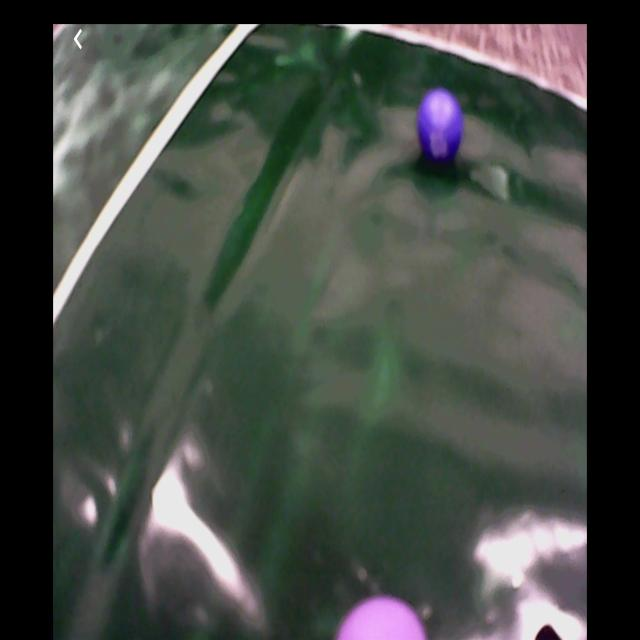ball: (336, 595, 426, 640), (417, 90, 465, 165)
